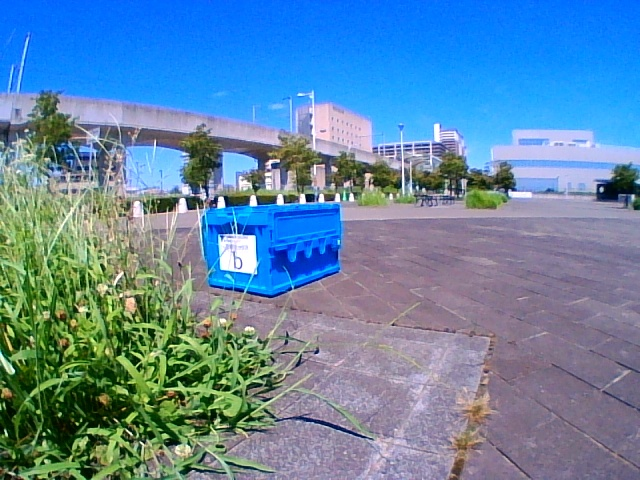blue_box: (202, 203, 341, 296)
tag_b: (221, 235, 256, 271)
